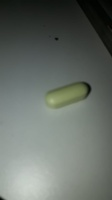Aferin: (44, 81, 92, 109)
